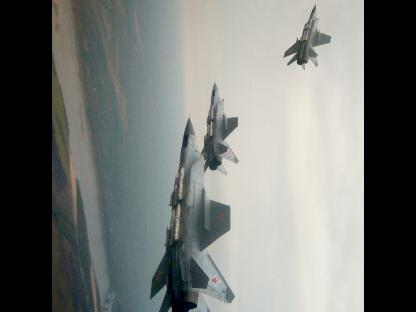Mig31: (150, 109, 237, 311), (202, 78, 240, 174), (284, 1, 332, 69)
